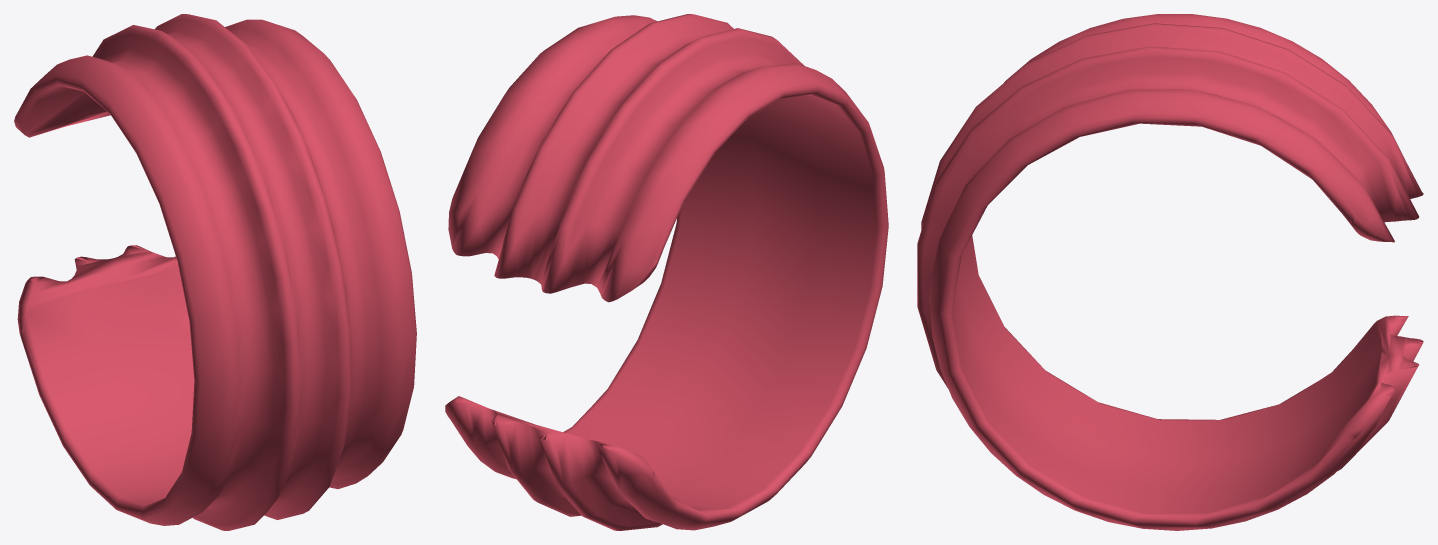
File: abc.obj
3 renders of one model, left to right at view 1: azimuth 30°, elevation 25°; view 2: azimuth 150°, elevation 25°; view 3: azimuth 270°, elevation 25°, orthographic.
Parts seen in each view (by area): view 1: braceletp; view 2: braceletp; view 3: braceletp.
Part boxes in pixels (box(x1,y1,x2,y2)): braceletp: box(14, 14, 416, 530); braceletp: box(445, 14, 888, 530); braceletp: box(917, 14, 1423, 530).
Bounding box in the file's own units: 39.56 × 73.43 × 71.83.
